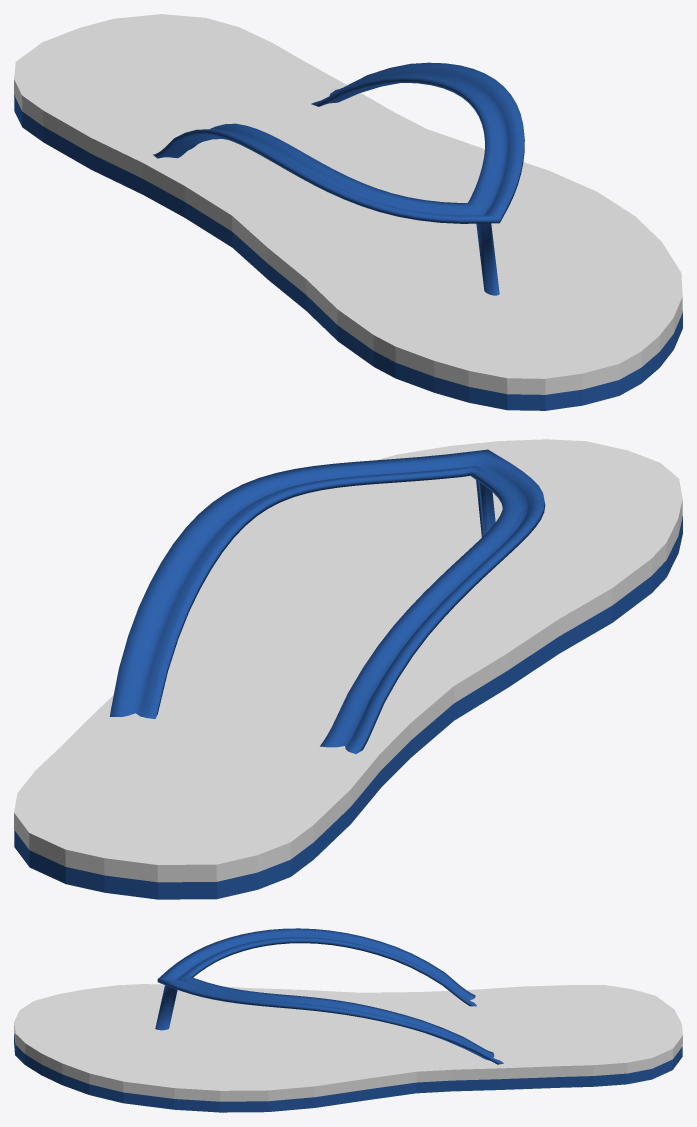
The model's file is sendalbiru.fbx.
3 views of the same model, one above another, from view 1: azimuth 30°, elevation 25°; view 2: azimuth 150°, elevation 25°; view 3: azimuth 270°, elevation 25° (orthographic). The views are drawn at different scales.
Parts seen in each view (by area): view 1: Plane; view 2: Plane; view 3: Plane.
Part boxes in pixels (x1=…): Plane: x1=14, y1=14, x2=682, y2=410; Plane: x1=14, y1=439, x2=682, y2=899; Plane: x1=14, y1=928, x2=682, y2=1112.
Bounding box in the file's own units: 173 × 66.48 × 447.
